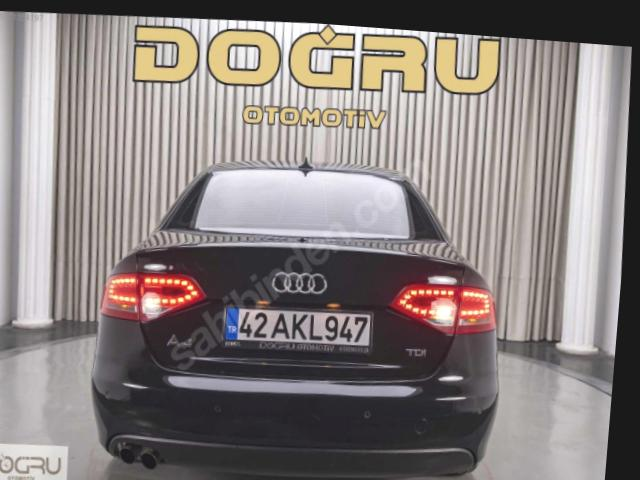plaka: (223, 307, 373, 352)
